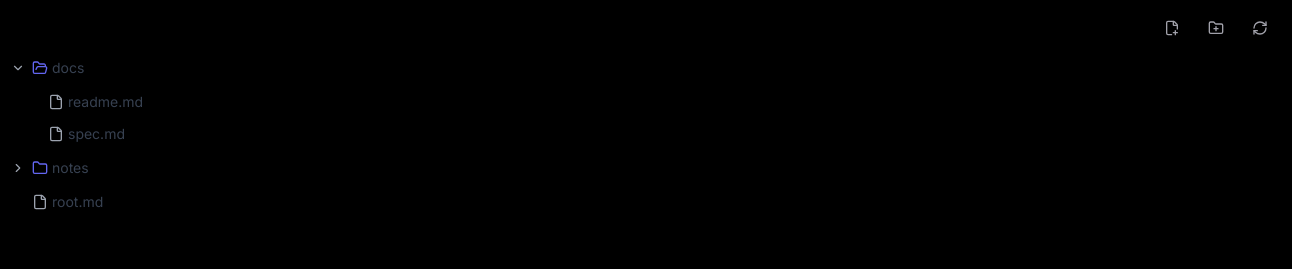
Test: FileTree › rename › shows validation error for invalid rename
Right-click the text "readme.md".
right_click(96, 102)  # box top-left (48, 93), bottom-right (143, 110)
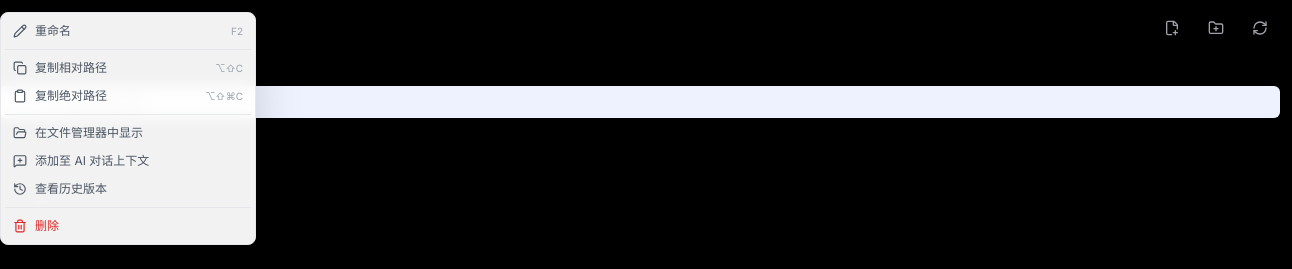
Click the text "重命名".
click(53, 30)  # box top-left (35, 23), bottom-right (71, 38)
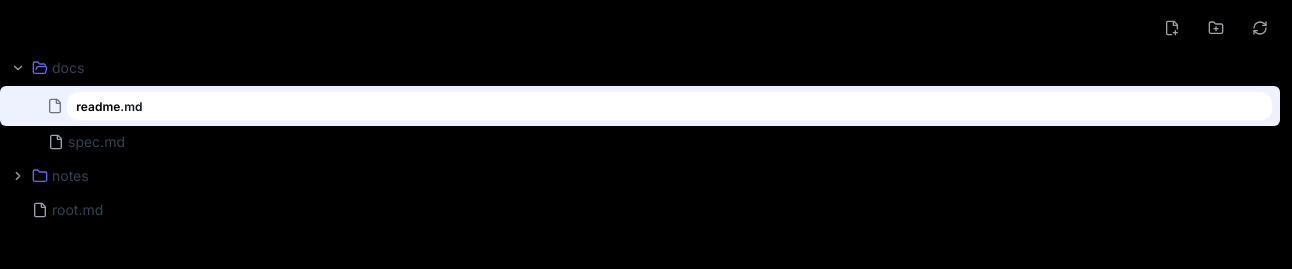
Replace the text in the field with "bad:name.md" at (670, 106), box top-left (67, 92), bottom-right (1272, 120)
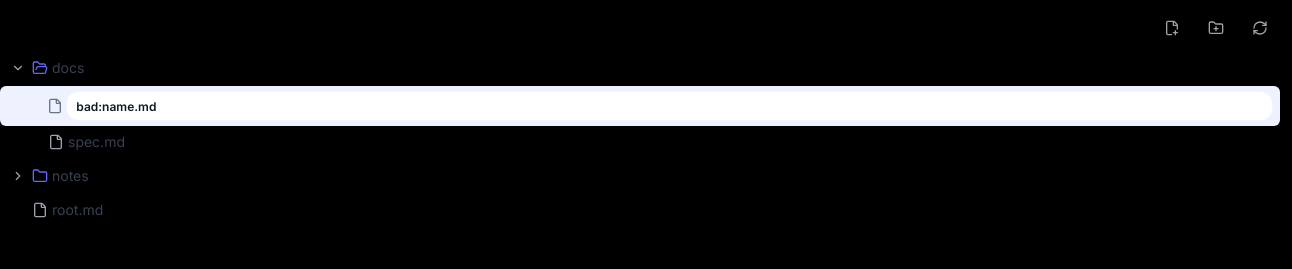
Press Enter in the field, box top-left (67, 92), bottom-right (1272, 120)
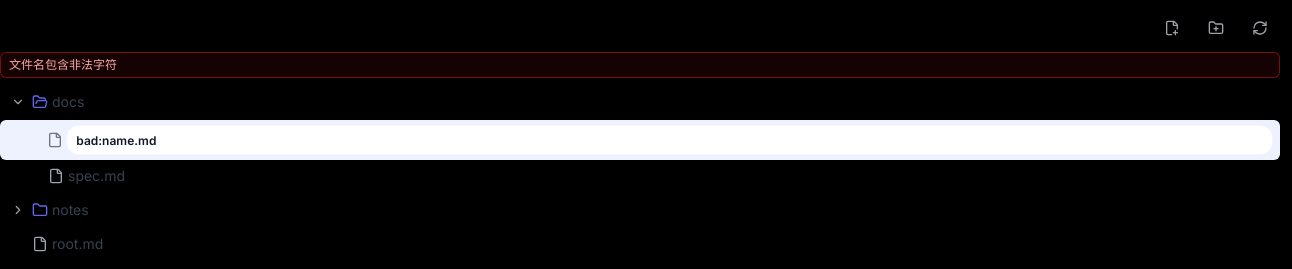
Expected: the text "文件名包含非法字符" is shown, top-left (0, 52), bottom-right (1280, 78)
